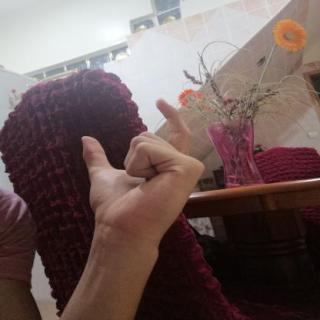NOON: (65, 90, 215, 255)
